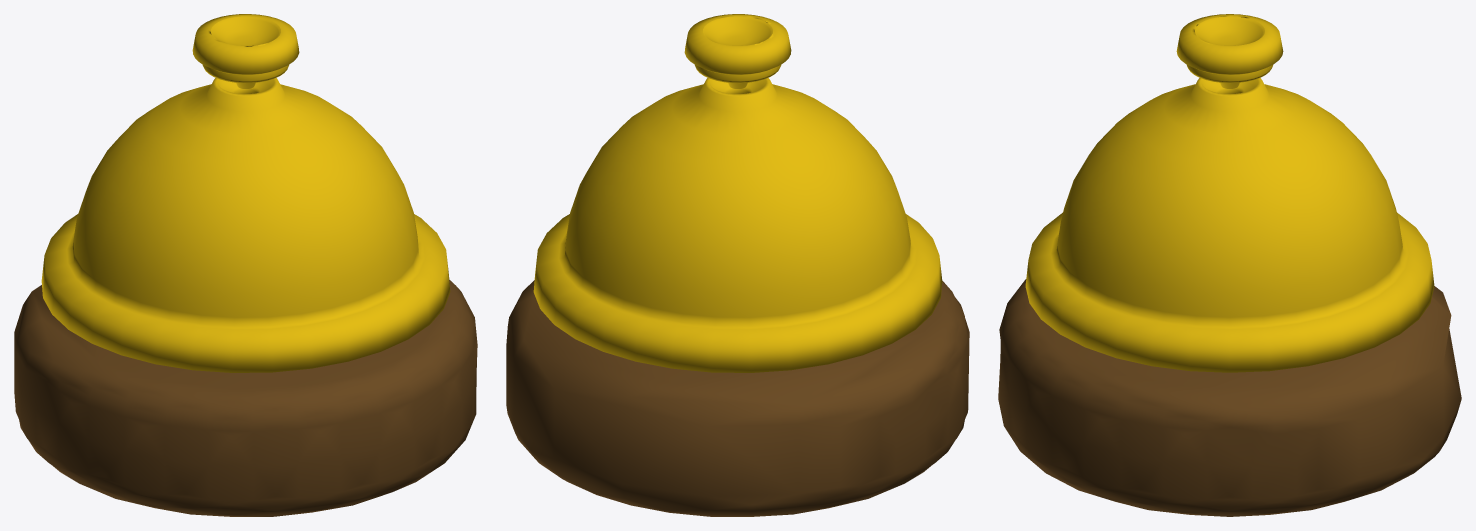
File: GoldTableBell.fbx
3 views of the same model, side by side, from view 1: azimuth 30°, elevation 25°; view 2: azimuth 150°, elevation 25°; view 3: azimuth 270°, elevation 25° (orthographic).
Parts seen in each view (by area): view 1: Sphere, Cylinder, Sphere.001; view 2: Sphere, Cylinder, Sphere.001; view 3: Sphere, Cylinder, Sphere.001.
Part boxes in pixels (left/top/right/bottom): Sphere: left=41, top=78, right=450, bottom=372; Cylinder: left=14, top=280, right=477, bottom=516; Sphere.001: left=192, top=14, right=299, bottom=88; Sphere: left=533, top=78, right=942, bottom=372; Cylinder: left=506, top=280, right=969, bottom=516; Sphere.001: left=684, top=14, right=791, bottom=88; Sphere: left=1025, top=78, right=1434, bottom=372; Cylinder: left=998, top=279, right=1461, bottom=516; Sphere.001: left=1176, top=14, right=1283, bottom=88.
Bounding box in the file's own units: 200 × 190 × 200.
